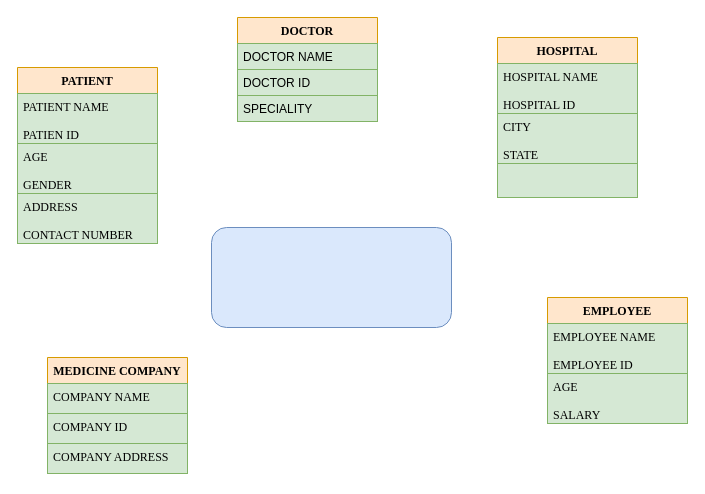
Some shapes in this 705 by 494 pixel diagram are drawn without their labels. The shapes that lost their labels are listed below. From the top down, each one's centre as x and y in pixels, then its label:
At [567,180]: "PINCODE".
At [331,277]: "MEDICINES".
